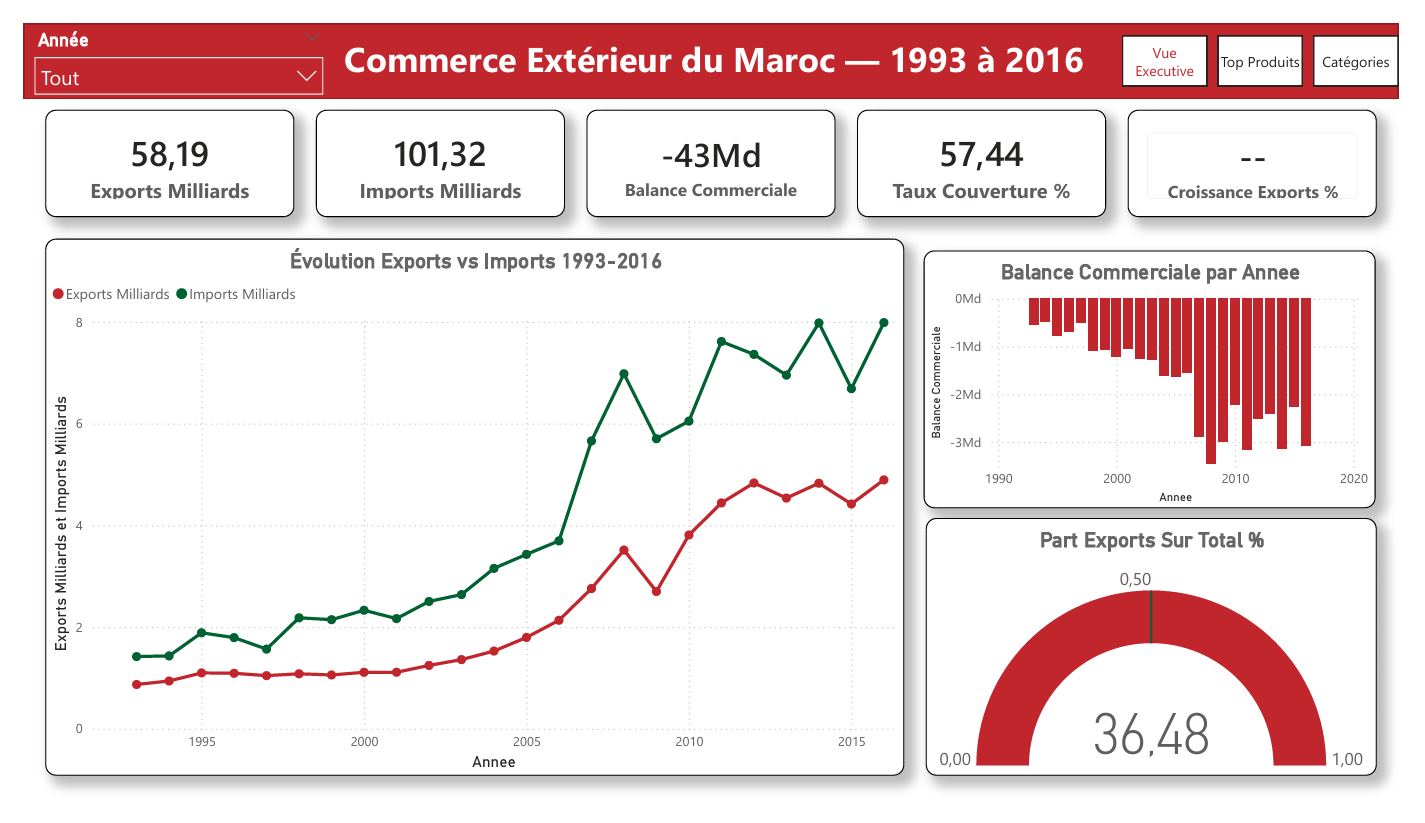

This screenshot's page, from the dashboard's own definition file:
{"tool":"powerbi","page":{"name":"Vue Executive","canvas":[1280,720],"ordinal":0},"visuals":[{"type":"cardVisual","title":"Exports (Mds $)","fields":{"Data":["Fact_Commerce.Exports Milliards"]},"box":[20,80,232,100],"z":1000},{"type":"cardVisual","fields":{"Data":["Fact_Commerce.Imports Milliards"]},"box":[272,80,232,100],"z":2000},{"type":"cardVisual","fields":{"Data":["Fact_Commerce.Balance Commerciale"]},"box":[524,80,232,100],"z":3000},{"type":"cardVisual","fields":{"Data":["Fact_Commerce.Taux Couverture %"]},"box":[776,80,232,100],"z":4000},{"type":"cardVisual","fields":{"Data":["Fact_Commerce.Croissance Exports %"]},"box":[1028,80,232,100],"z":5000},{"type":"lineChart","title":"Évolution Exports vs Imports 1993-2016","fields":{"Category":["Dim_Date.Annee"],"Y":["Fact_Commerce.Exports Milliards","Fact_Commerce.Imports Milliards"]},"box":[20,200,800,500],"z":6000},{"type":"shape","box":[0,0,1280.3,70],"z":6500},{"type":"clusteredColumnChart","fields":{"Category":["Dim_Date.Annee"],"Y":["Fact_Commerce.Balance Commerciale"]},"box":[837.7,211.5,421.3,239.3],"z":7000},{"type":"gauge","fields":{"Y":["Fact_Commerce.Part Exports Sur Total %"]},"box":[840,460,420,240],"z":8000},{"type":"slicer","fields":{"Values":["Dim_Date.Annee"]},"box":[0,0,288.5,100],"z":10000},{"type":"textbox","box":[18,4.9,1241,60.7],"z":10500},{"type":"pageNavigator","box":[1023,11.5,257.4,47.5],"z":10501}]}

Visuals, with their boxes in screenshot pixels (x1, y1, x2, y2), scaled from the page's 1280x720 canvas onto the 1425x823 screenshot:
"Exports (Mds $)" cardVisual: box(22, 91, 281, 206)
cardVisual - Fact_Commerce.Imports Milliards: box(303, 91, 561, 206)
cardVisual - Fact_Commerce.Balance Commerciale: box(583, 91, 842, 206)
cardVisual - Fact_Commerce.Taux Couverture %: box(864, 91, 1122, 206)
cardVisual - Fact_Commerce.Croissance Exports %: box(1144, 91, 1403, 206)
"Évolution Exports vs Imports 1993-2016" lineChart: box(22, 229, 913, 800)
shape: box(0, 0, 1424, 80)
clusteredColumnChart - Dim_Date.Annee x Fact_Commerce.Balance Commerciale: box(933, 242, 1402, 515)
gauge - Fact_Commerce.Part Exports Sur Total %: box(935, 526, 1403, 800)
slicer - Dim_Date.Annee: box(0, 0, 321, 114)
textbox: box(20, 6, 1402, 75)
pageNavigator: box(1139, 13, 1424, 67)
